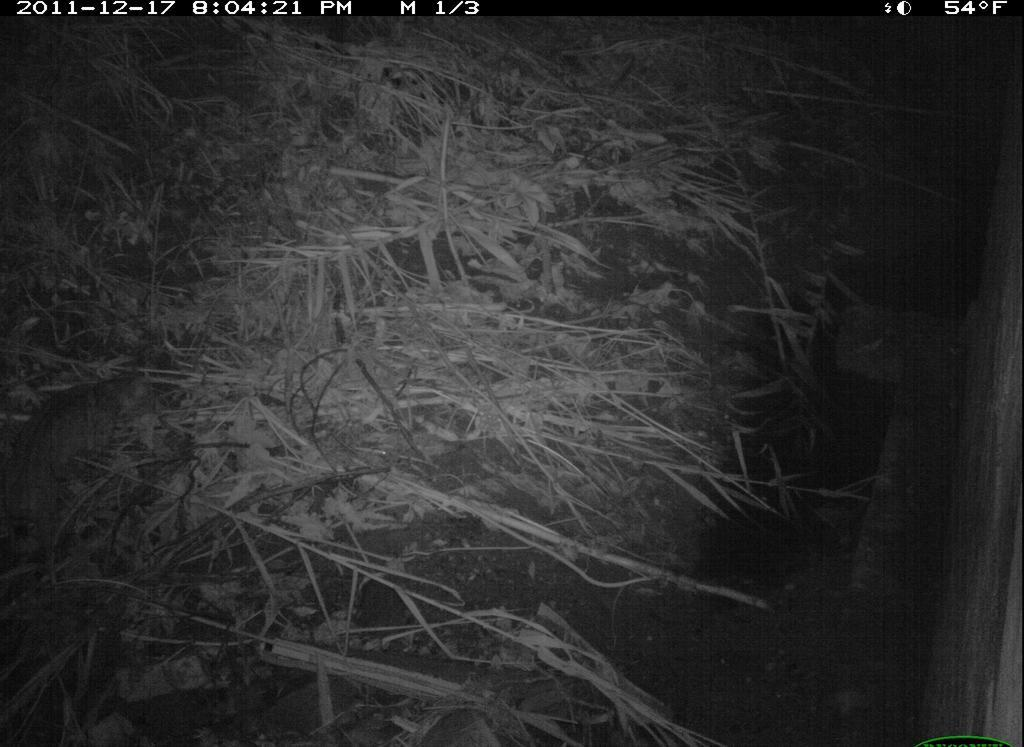bobcat: (12, 363, 167, 541)
